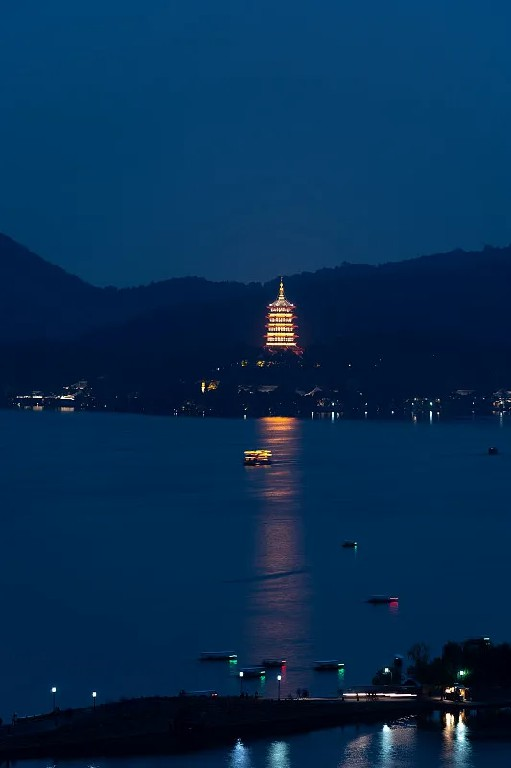Leifeng: (263, 278, 300, 355)
